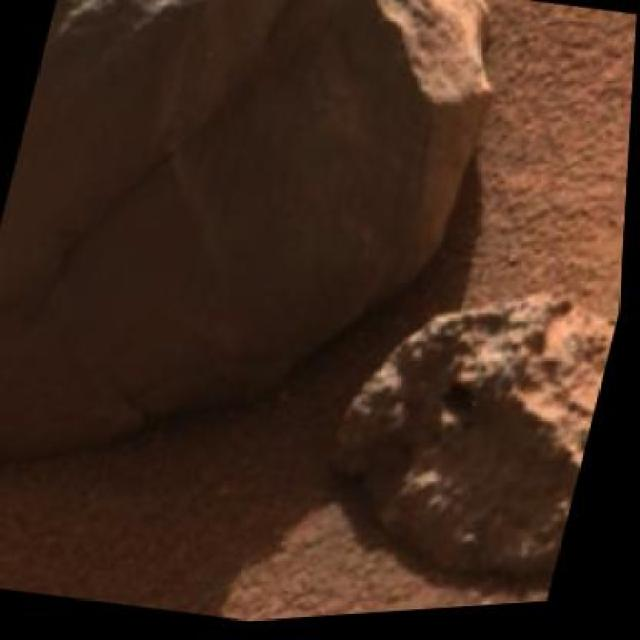rock: (0, 0, 527, 575), (306, 248, 626, 614)
